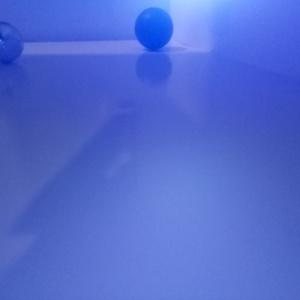alive_ball: (1, 21, 23, 63)
dead_ball: (134, 7, 174, 50)
